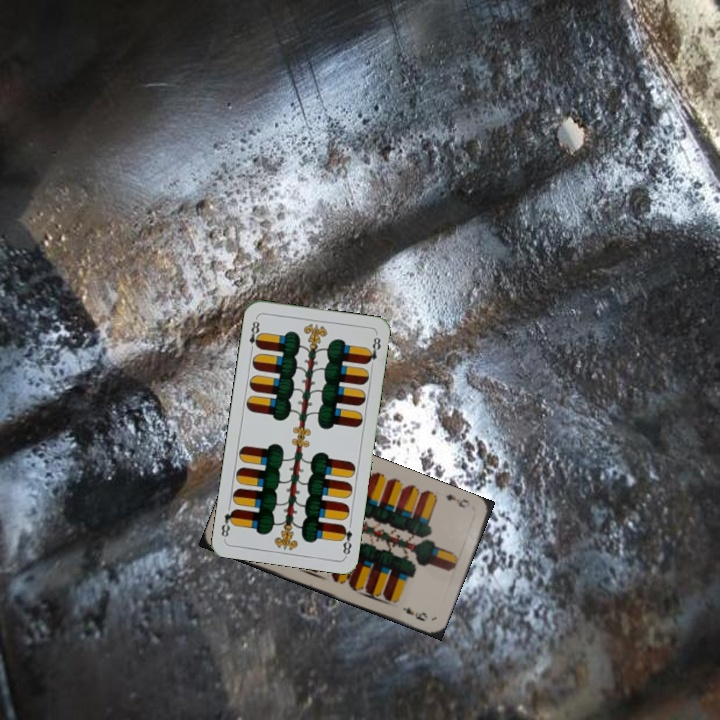E8: (245, 314, 264, 354), (336, 521, 355, 558)
E9: (441, 490, 471, 510)
